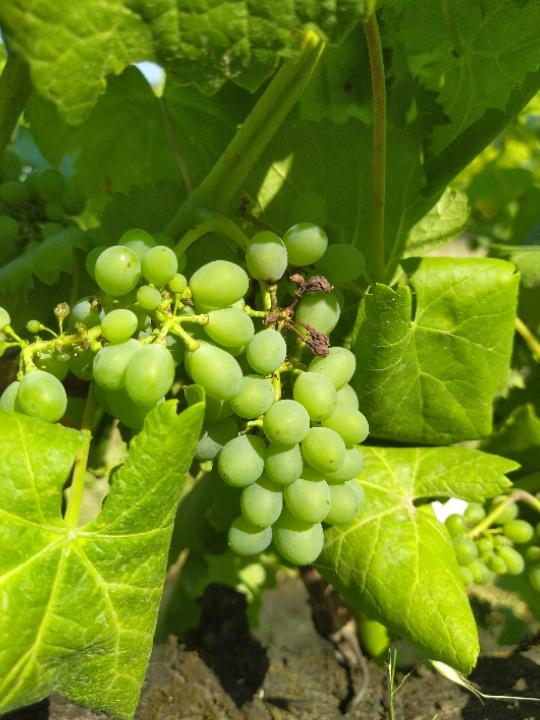grape: (0, 189, 372, 574)
